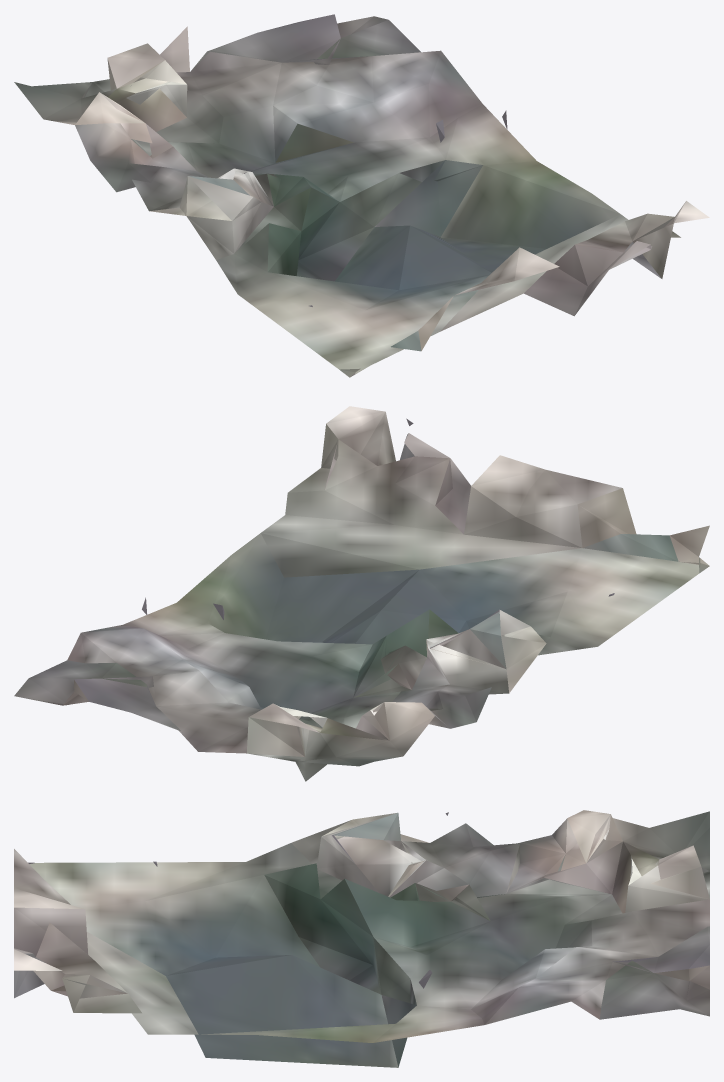
Rendered from Tile__006__005_L15_0.glb.
3 renders of one model, top to bottom at view 1: azimuth 30°, elevation 25°; view 2: azimuth 150°, elevation 25°; view 3: azimuth 270°, elevation 25°, orthographic. The views are drawn at different scales.
Parts seen in each view (by area): view 1: root; view 2: root; view 3: root.
Boxes of the visible parts, bbox=[...] form: root: bbox=[14, 14, 709, 377]; root: bbox=[14, 406, 709, 781]; root: bbox=[14, 810, 709, 1067].
Bounding box in the file's own units: 62.64 × 22.91 × 101.
Materials: 1 (1 with a texture image).
